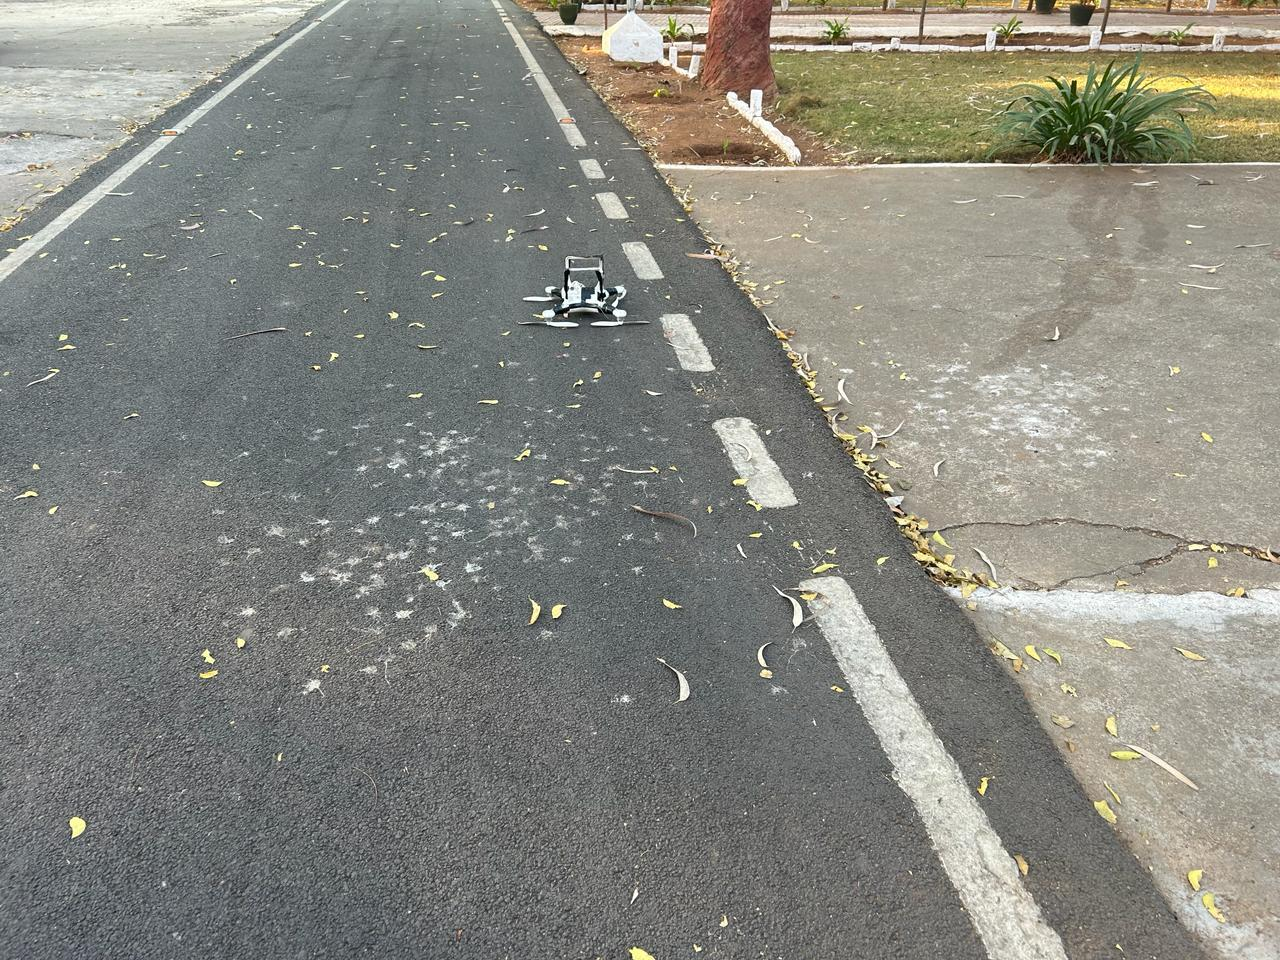drone: (493, 183, 685, 393)
